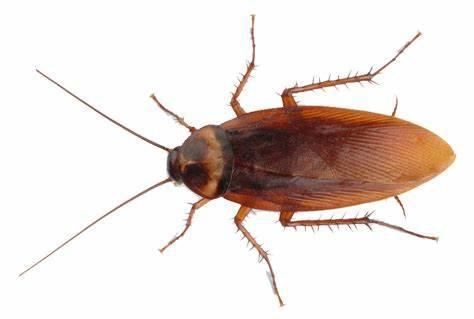cockroach: (139, 71, 456, 248)
